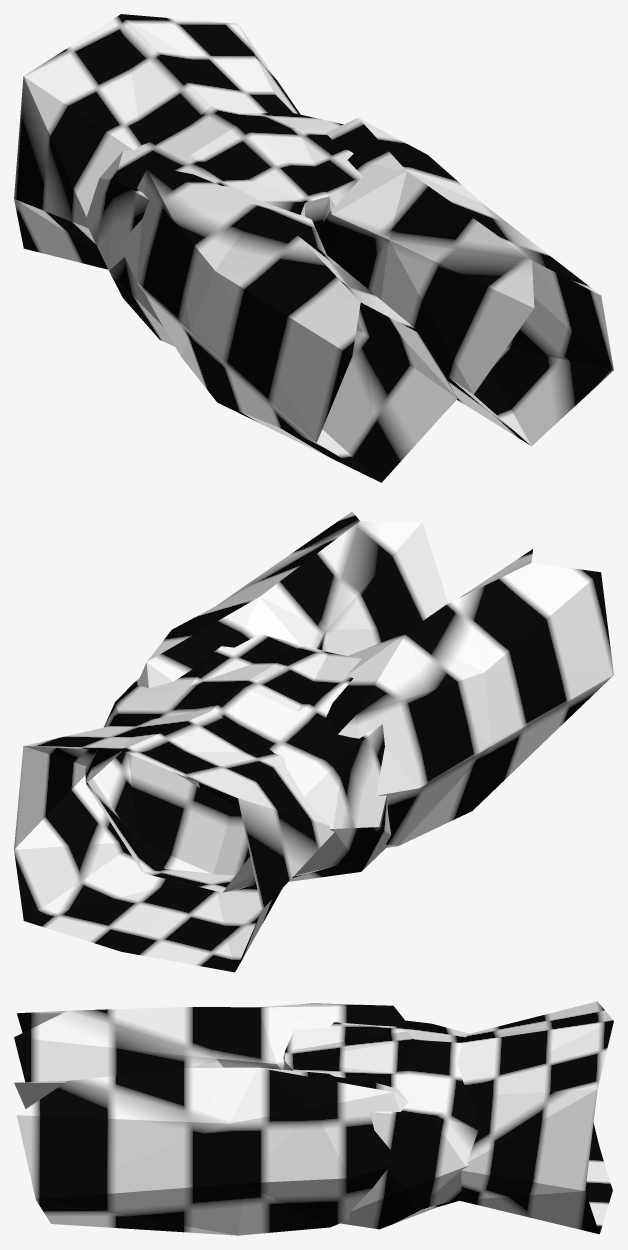
Rendered from initarpt1.dae.
The picture shows the model from 3 angles, top to bottom: view 1: azimuth 30°, elevation 25°; view 2: azimuth 150°, elevation 25°; view 3: azimuth 270°, elevation 25°; orthographic projection. The views are drawn at different scales.
Visible parts, largest first — view 1: armor; view 2: armor; view 3: armor.
Part boxes in pixels (x1,y1,x2,y2): armor: (14,14,613,482); armor: (14,512,613,972); armor: (14,1001,613,1235).
Bounding box in the file's own units: 0.8125 × 1.67 × 0.5611.
Materials: 1 (1 with a texture image).
